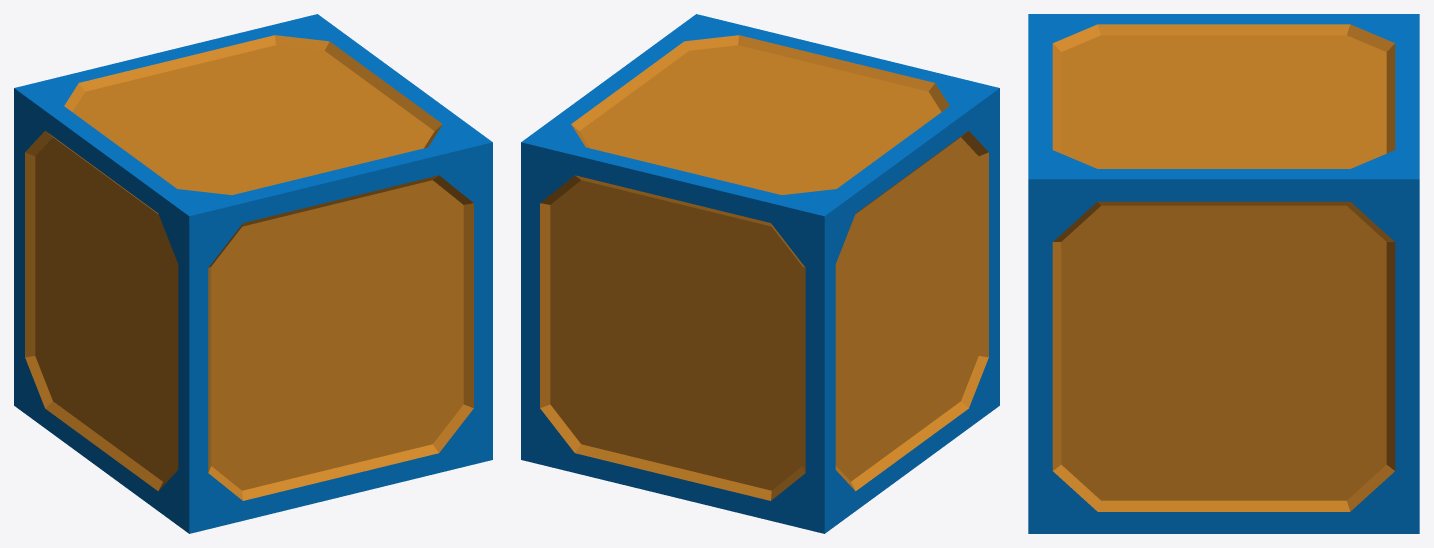
File: Cube_Dynamique_V2.FBX
3 views of the same model, side by side, from view 1: azimuth 30°, elevation 25°; view 2: azimuth 150°, elevation 25°; view 3: azimuth 270°, elevation 25° (orthographic). The views are drawn at different scales.
Parts seen in each view (by area): view 1: Mur_059; view 2: Mur_059; view 3: Mur_059.
Part boxes in pixels (x1=…): Mur_059: x1=14, y1=14, x2=492, y2=533; Mur_059: x1=521, y1=14, x2=999, y2=533; Mur_059: x1=1028, y1=14, x2=1419, y2=533.
Size of the model in its own units: 48 by 48 by 48.
